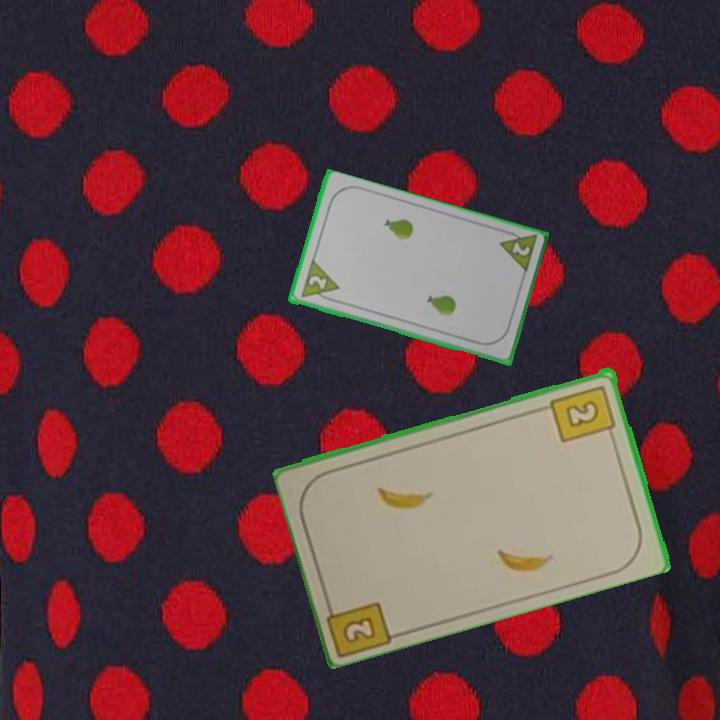2b: (322, 593, 397, 657), (547, 381, 619, 445)
2p: (495, 226, 540, 277), (297, 258, 342, 305)
